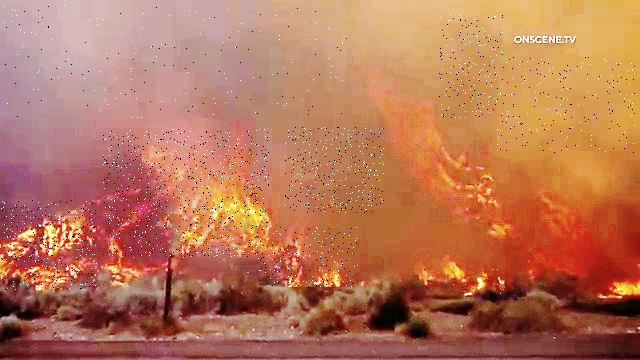fire: (103, 129, 269, 258), (0, 200, 97, 290), (258, 227, 359, 287), (420, 258, 504, 298)
smoke: (2, 2, 349, 118), (498, 58, 636, 154), (285, 128, 384, 214), (439, 16, 503, 119)
